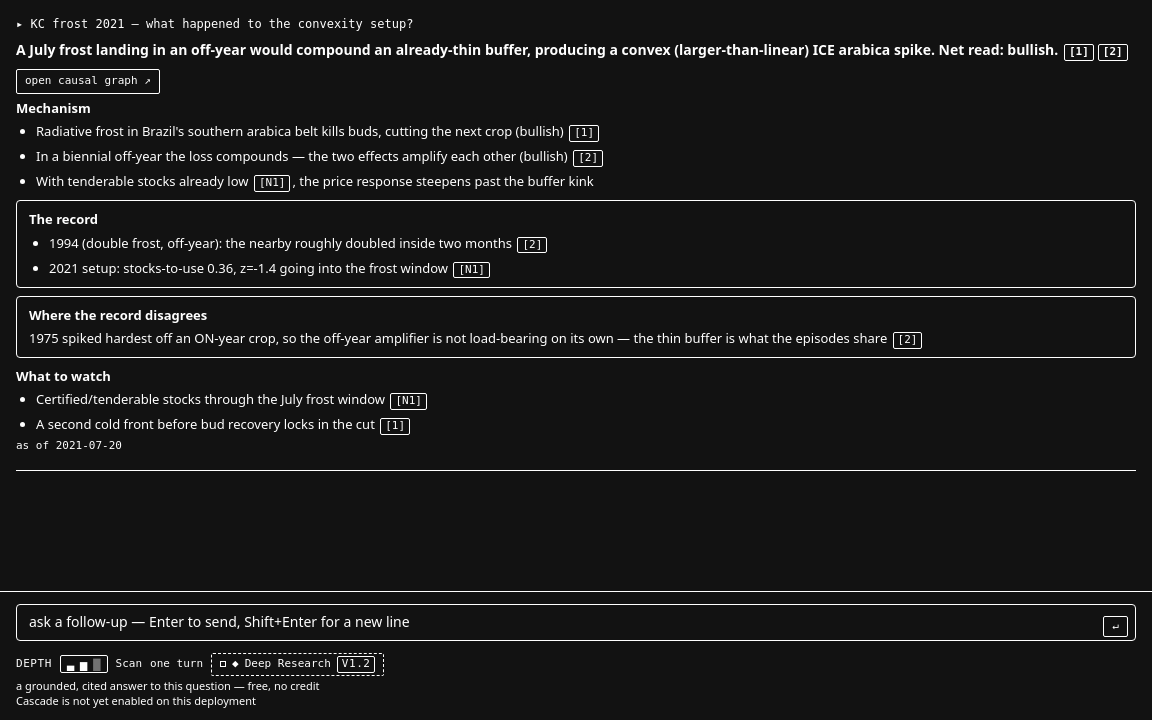
Test: D-TW-23: the LIVE turn keeps clickable citation chips after it settles into `past` › the TL;DR path on the same settled turn is live too (renderInline, not just Sections)
Click the button with test id "cite-chip" next to "Net read: bullish." at (1079, 53), box [1064,44,1094,61]
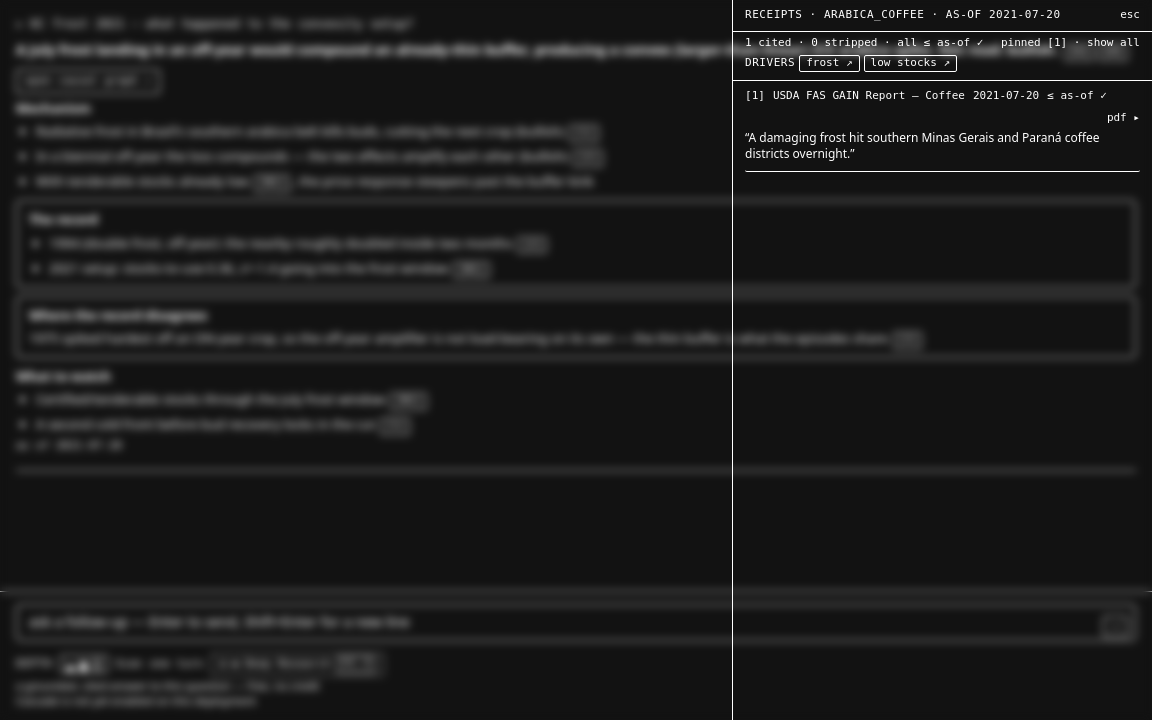
expect the dialog with test id "receipts" is shown: met, box [732,0,1151,719]
expect the button "pinned [1] · show all" is shown: met, box [1001,36,1140,51]
